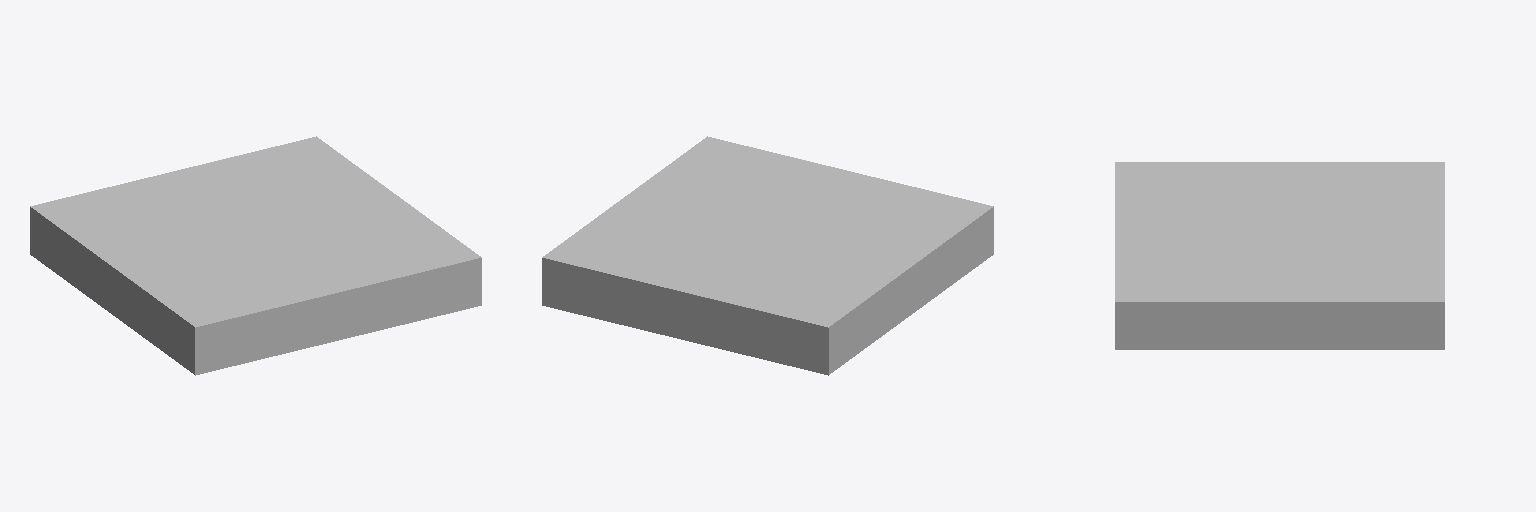
Rendered from Package 01 Necro Dungeon-64.obj.
3 views of the same model, side by side, from view 1: azimuth 30°, elevation 25°; view 2: azimuth 150°, elevation 25°; view 3: azimuth 270°, elevation 25° (orthographic).
Visible parts, largest first — view 1: object 1; view 2: object 1; view 3: object 1.
Boxes of the visible parts, <box> form: object 1: <box>30,136,481,375</box>; object 1: <box>542,136,993,375</box>; object 1: <box>1115,162,1444,349</box>.
Size of the model in its own units: 2.5 by 0.4 by 2.5.